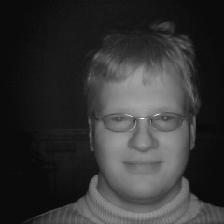happy: (68, 18, 208, 208)
